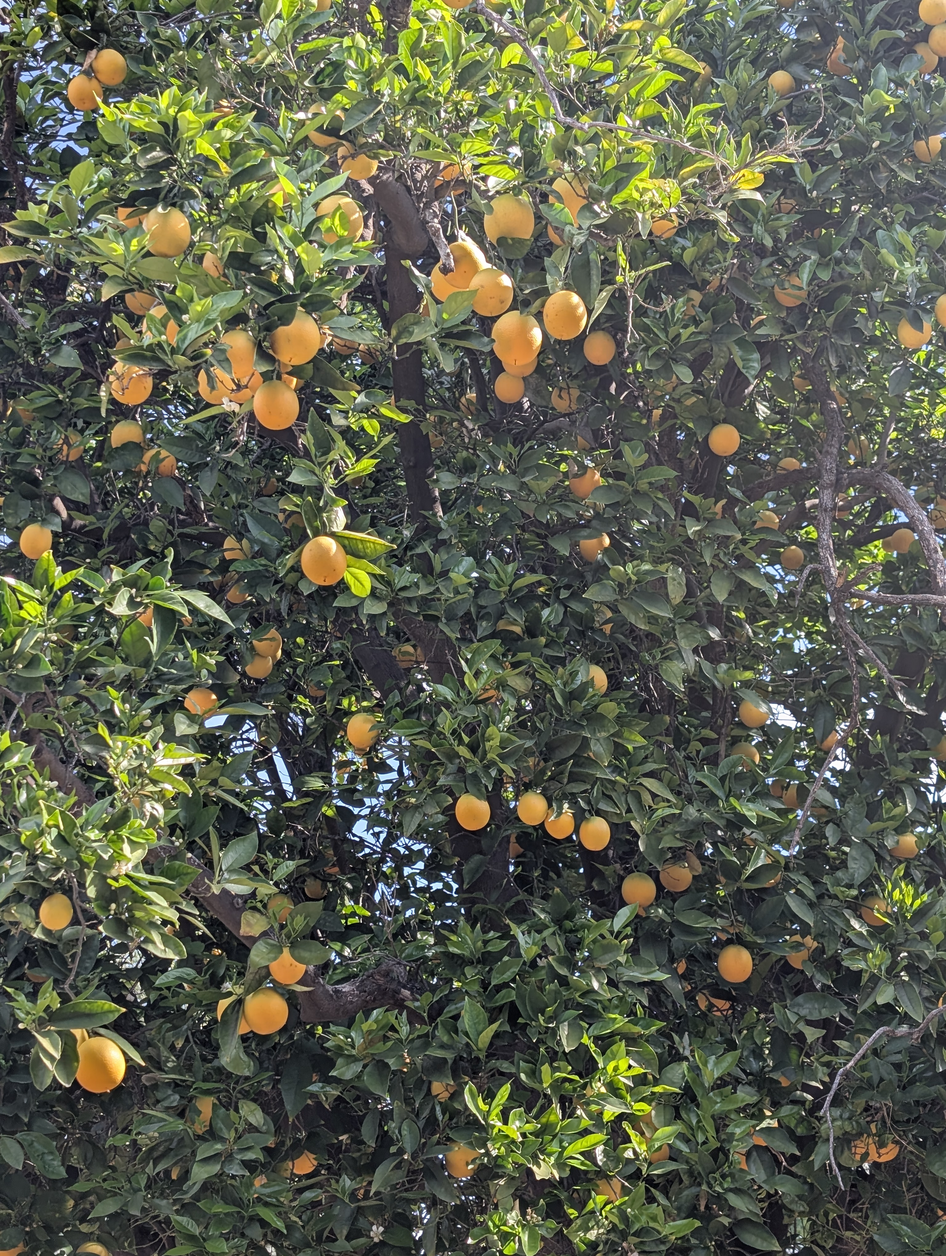orange: (270, 311, 322, 365), (76, 1037, 126, 1093), (492, 311, 542, 365), (484, 193, 534, 243), (144, 207, 191, 257), (253, 380, 299, 430), (301, 536, 347, 586), (542, 290, 587, 340), (469, 267, 514, 317), (317, 195, 363, 243), (244, 988, 288, 1034), (447, 239, 487, 289), (108, 366, 152, 406), (221, 329, 255, 379), (552, 175, 588, 221), (91, 48, 127, 86), (346, 712, 381, 751), (269, 948, 305, 985), (215, 368, 253, 403), (718, 944, 752, 983), (67, 74, 102, 111), (456, 793, 491, 830), (39, 893, 73, 931), (444, 1144, 480, 1178), (19, 524, 52, 560), (583, 330, 616, 365), (774, 274, 807, 308), (622, 873, 656, 906), (136, 449, 177, 476), (897, 317, 932, 348), (579, 816, 610, 851), (633, 1109, 662, 1146), (708, 424, 740, 457), (569, 467, 601, 500), (517, 791, 548, 825), (787, 935, 818, 969), (188, 1096, 215, 1133), (660, 863, 693, 893), (827, 37, 852, 76), (342, 154, 378, 180), (494, 372, 524, 403), (430, 264, 455, 301), (184, 688, 218, 715), (198, 369, 224, 404), (579, 533, 610, 562), (544, 810, 575, 839), (111, 420, 144, 447), (739, 700, 769, 728), (860, 895, 888, 925), (312, 105, 344, 131), (913, 42, 938, 75), (551, 385, 580, 413), (267, 894, 295, 923), (251, 629, 281, 656), (59, 429, 84, 461), (697, 992, 731, 1015), (913, 136, 941, 163), (889, 832, 917, 859), (918, 0, 946, 26), (503, 356, 537, 377), (125, 292, 156, 315), (868, 1140, 899, 1163), (768, 70, 795, 96), (245, 653, 273, 678), (115, 207, 148, 228), (730, 743, 760, 766), (889, 528, 915, 554), (223, 535, 250, 560), (9, 398, 34, 425), (927, 22, 946, 57), (307, 127, 340, 147), (596, 1178, 623, 1202), (292, 1151, 317, 1176), (651, 215, 677, 239), (780, 546, 805, 570), (332, 333, 359, 355), (202, 251, 224, 278), (589, 664, 608, 694), (436, 163, 461, 185), (217, 996, 238, 1022), (226, 582, 249, 605), (754, 510, 780, 530), (430, 1081, 456, 1101), (684, 289, 702, 317), (847, 436, 871, 457), (76, 1242, 111, 1256), (305, 877, 326, 900), (335, 142, 354, 166), (459, 393, 478, 416), (246, 368, 262, 395), (496, 619, 522, 635), (934, 293, 946, 327), (851, 1138, 868, 1162), (782, 784, 798, 809), (163, 318, 178, 344), (931, 735, 946, 761), (259, 477, 279, 496), (393, 647, 413, 666), (649, 1144, 669, 1163), (820, 731, 838, 751), (649, 1145, 669, 1163), (281, 373, 302, 390), (137, 606, 153, 628), (359, 345, 378, 363), (148, 304, 168, 321), (778, 457, 801, 471), (0, 1243, 24, 1256), (793, 374, 811, 391), (215, 100, 234, 116), (71, 1028, 89, 1044), (509, 836, 522, 858), (831, 388, 846, 407), (769, 779, 784, 798), (931, 509, 946, 528), (288, 512, 305, 528), (548, 226, 561, 246), (308, 684, 326, 698), (778, 197, 796, 211), (881, 534, 894, 553), (714, 498, 726, 518), (478, 688, 497, 700), (430, 432, 444, 448), (718, 927, 734, 941), (577, 433, 590, 450), (735, 1151, 747, 1169), (706, 277, 721, 291), (115, 337, 131, 350), (239, 1016, 249, 1035), (767, 872, 780, 886), (254, 1174, 267, 1187), (663, 375, 676, 388), (142, 322, 151, 340), (271, 646, 281, 662), (775, 0, 795, 8), (753, 1133, 766, 1145), (676, 959, 686, 974), (601, 622, 612, 635), (502, 770, 512, 784), (417, 648, 424, 666), (531, 759, 543, 769), (651, 408, 661, 420), (181, 616, 192, 626), (335, 769, 348, 776), (781, 1075, 789, 1085), (224, 375, 232, 384), (837, 511, 848, 517), (936, 498, 944, 506), (838, 493, 846, 501), (745, 837, 752, 846), (809, 231, 819, 237), (638, 905, 644, 914), (322, 867, 335, 871), (766, 1127, 775, 1132), (813, 809, 824, 812)
